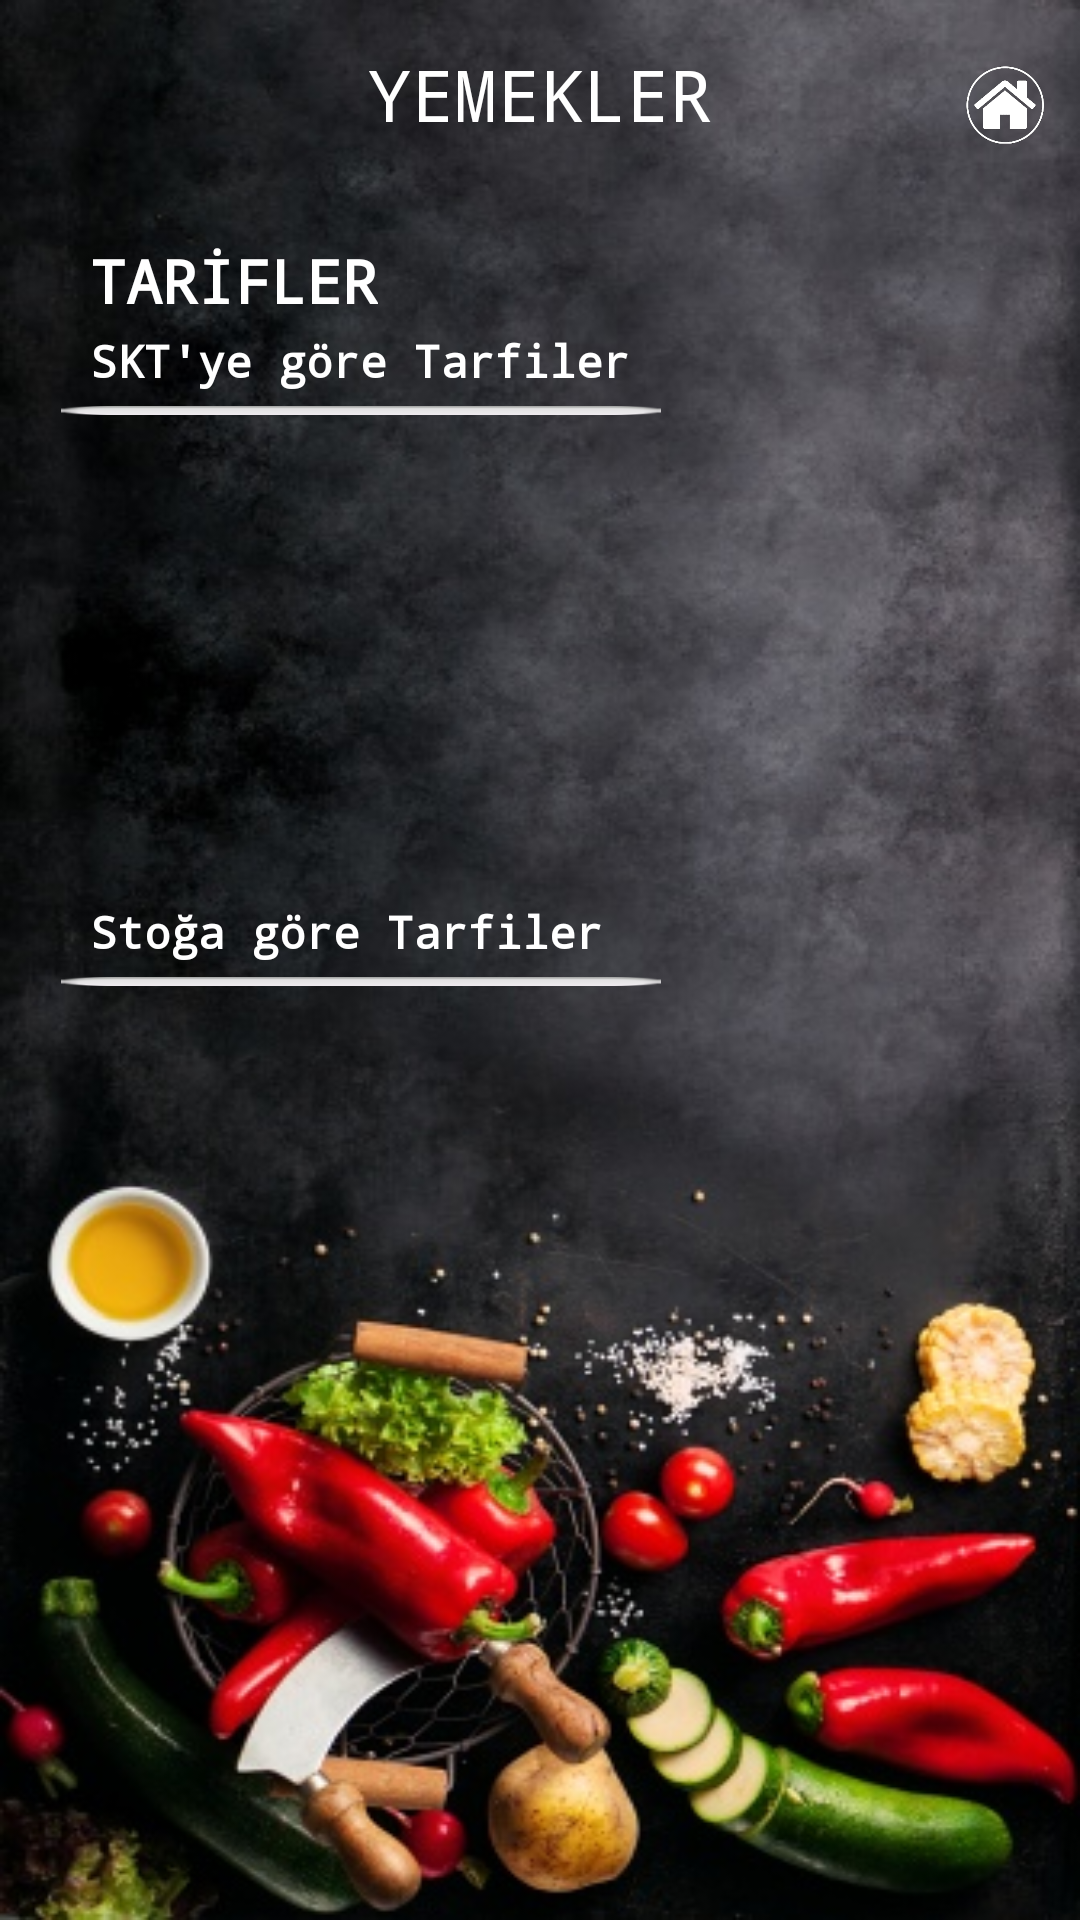

Icon bounding boxes for this 1080×1920 phone screenshot, format (x1, y1, x2, y2):
home: (966, 66, 1044, 144)
